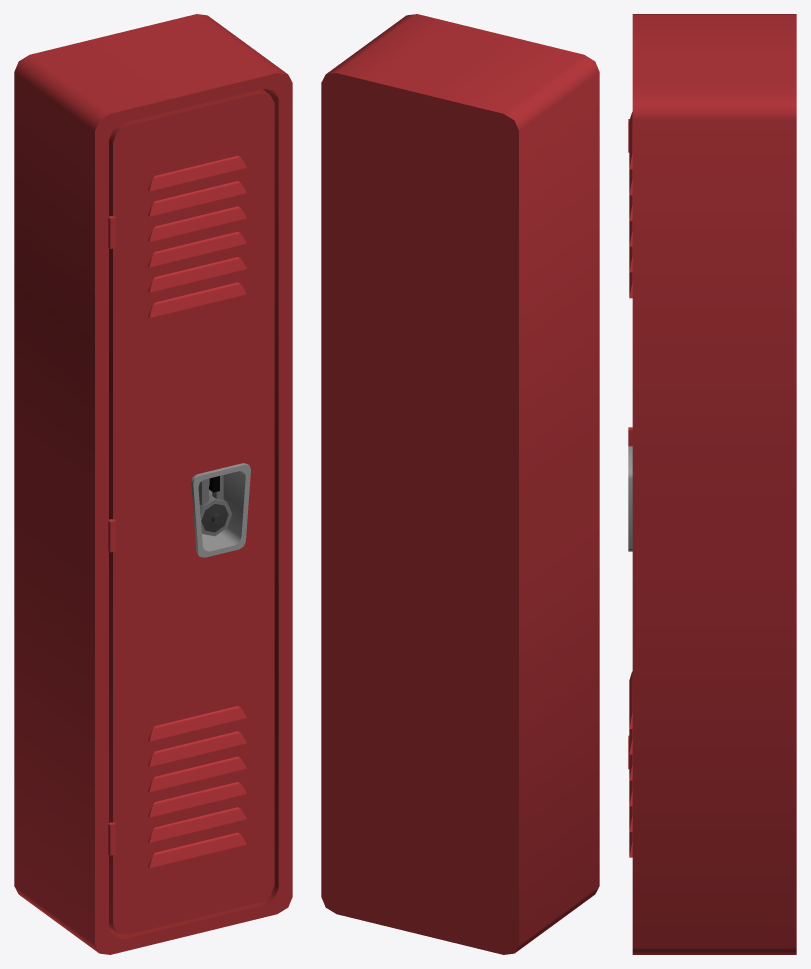
Rendered from Locker.fbx.
3 renders of one model, left to right at view 1: azimuth 30°, elevation 25°; view 2: azimuth 150°, elevation 25°; view 3: azimuth 270°, elevation 25°, orthographic.
Parts seen in each view (by area): view 1: locker; view 2: locker; view 3: locker.
Part boxes in pixels (x1,y1,x2,y2): locker: (14,14,292,954); locker: (321,14,599,954); locker: (628,14,796,954).
Size of the model in its own units: 43.14 by 175 by 31.29.
